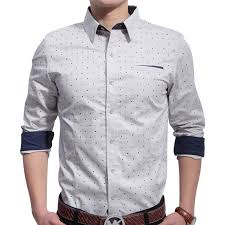C_shirt: (23, 10, 211, 217)
